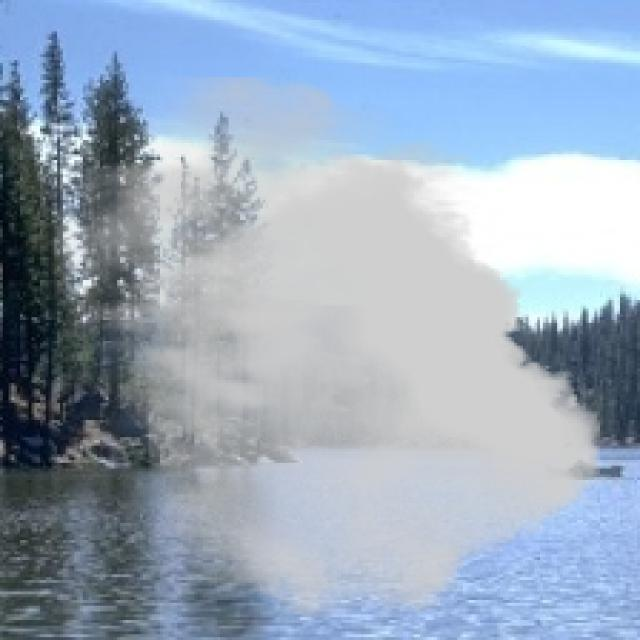Smoke: (54, 77, 600, 620)
